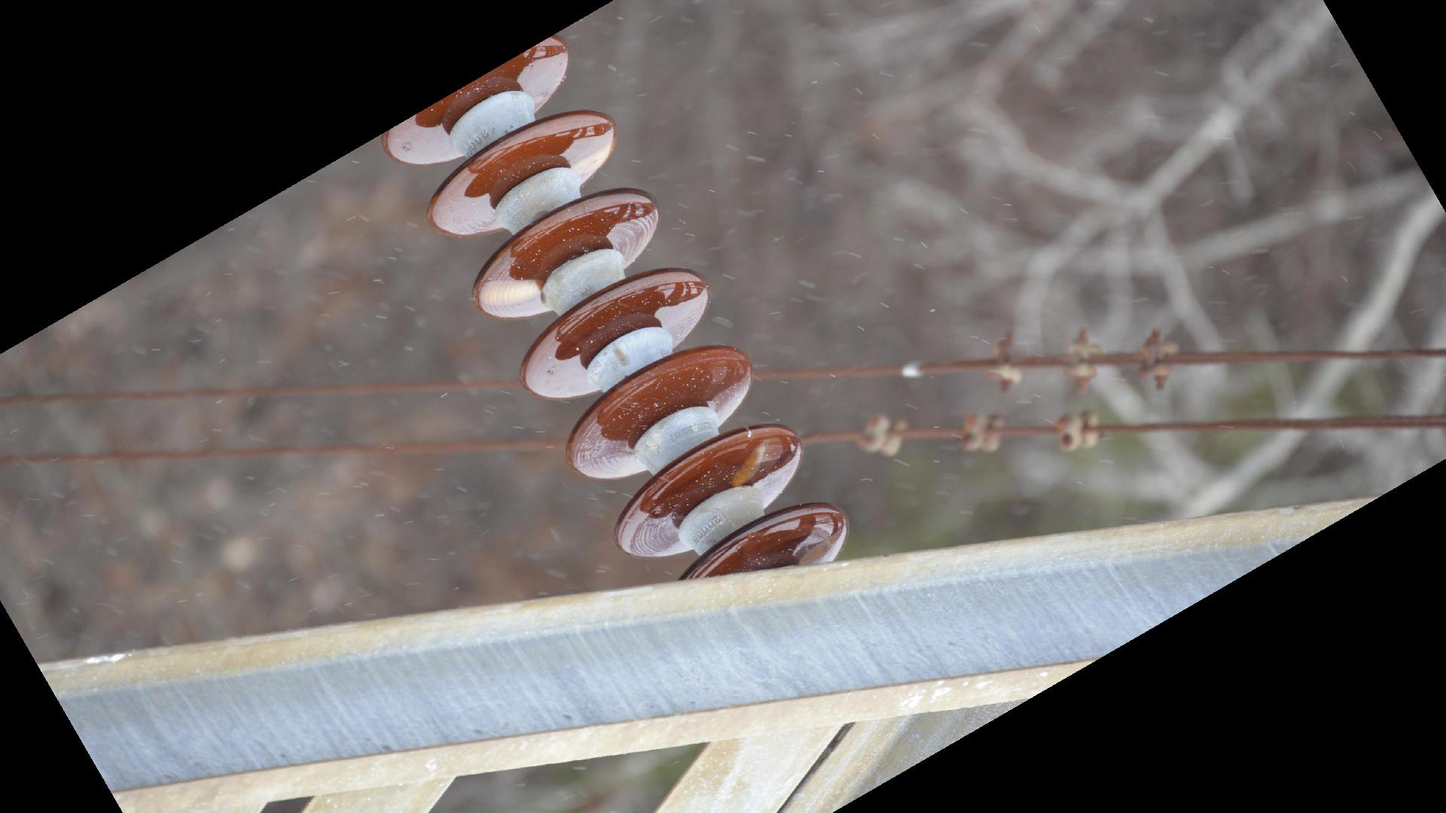insulator: (376, 29, 855, 583)
insulator_flashover: (475, 273, 545, 309), (728, 440, 770, 489), (570, 144, 614, 177)
